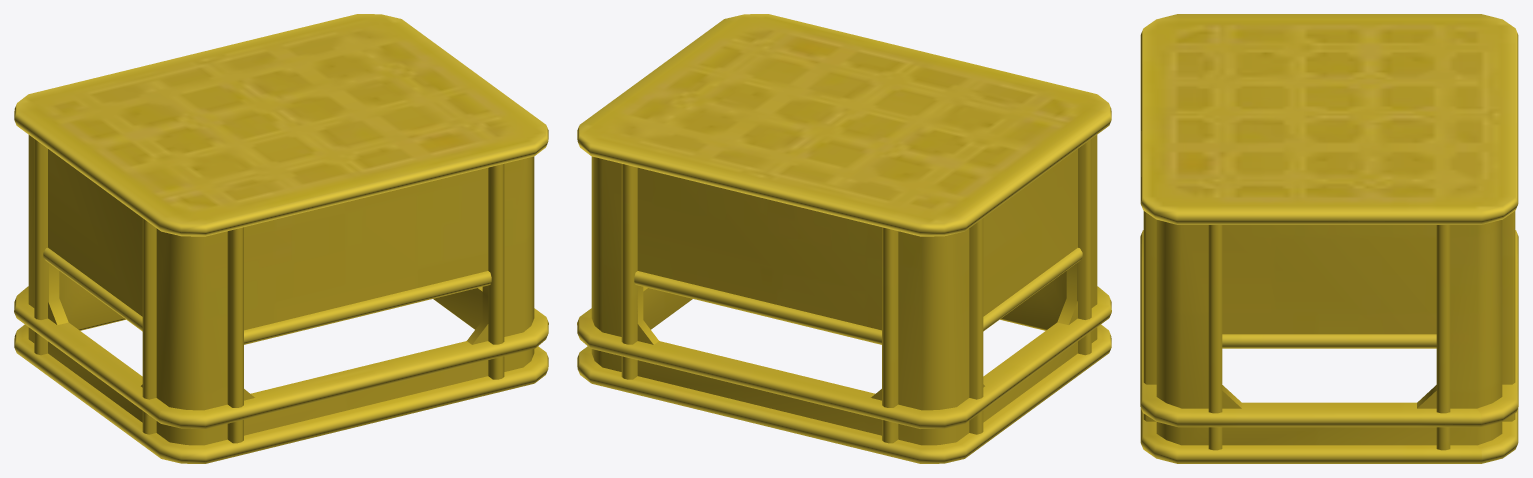
3 renders of one model, left to right at view 1: azimuth 30°, elevation 25°; view 2: azimuth 150°, elevation 25°; view 3: azimuth 270°, elevation 25°, orthographic. The views are drawn at different scales.
Size of the model in its own units: 8.31 by 4.89 by 6.64.
1 material, 1 textured.
